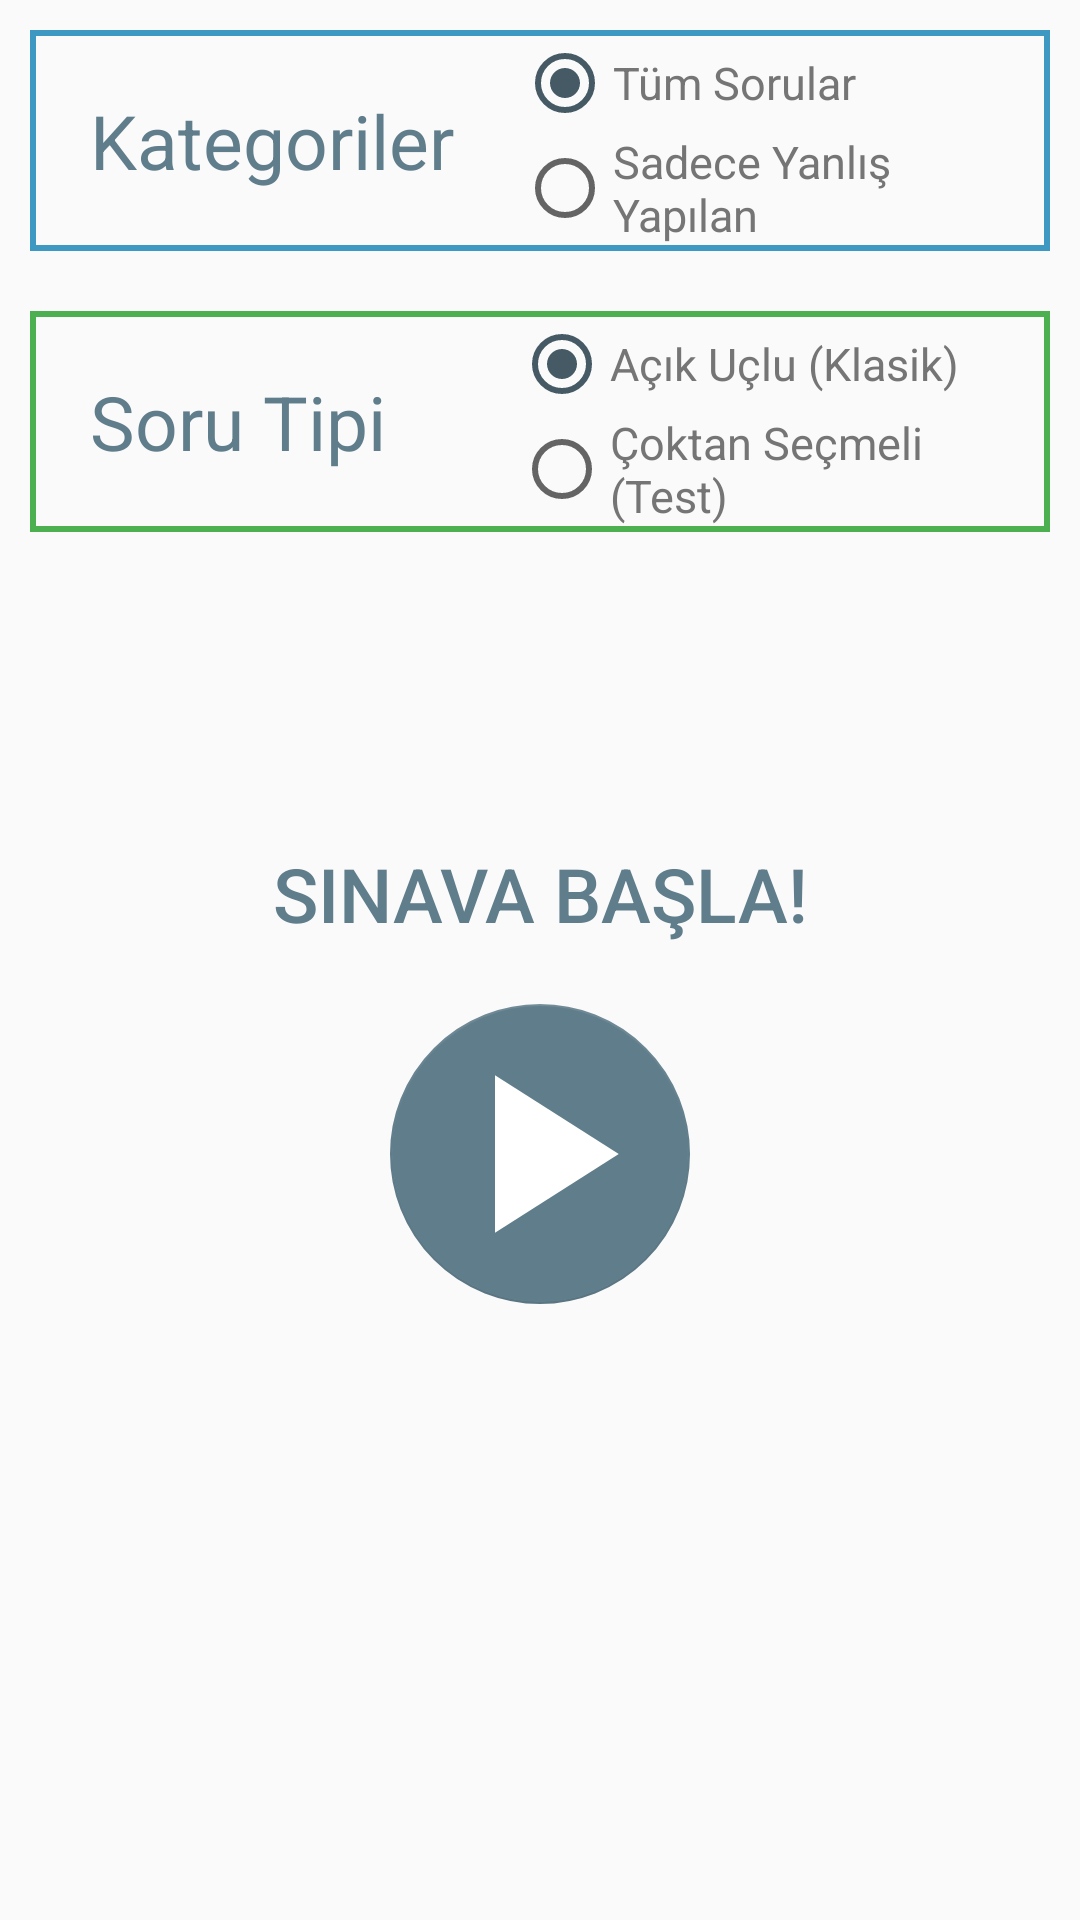

Point at icon controls on the screen. Image size 1080 × 1920, points as [x,y].
arrov play: [540,1154]
